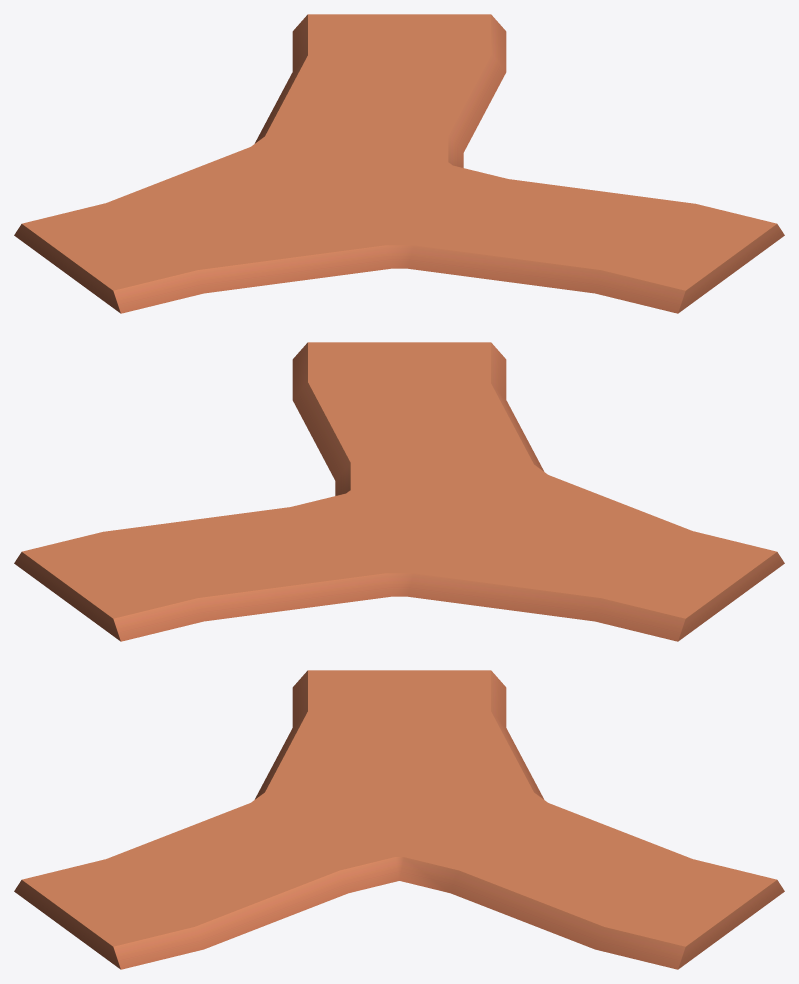
The model's file is kenney-hexagon-path-intersectionf.glb.
The picture shows the model from 3 angles, top to bottom: view 1: azimuth 30°, elevation 25°; view 2: azimuth 150°, elevation 25°; view 3: azimuth 270°, elevation 25°; orthographic projection.
Parts seen in each view (by area): view 1: path_intersectionF; view 2: path_intersectionF; view 3: path_intersectionF.
Boxes of the visible parts, bbox=[...] form: path_intersectionF: bbox=[14, 14, 784, 313]; path_intersectionF: bbox=[14, 342, 784, 641]; path_intersectionF: bbox=[14, 670, 784, 969].
Size of the model in its own units: 0.8709 by 0.025 by 1.01.
Materials: 1 (1 with a texture image).
